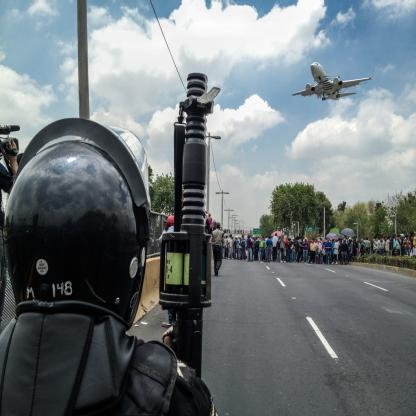Helmet: (4, 117, 154, 333)
